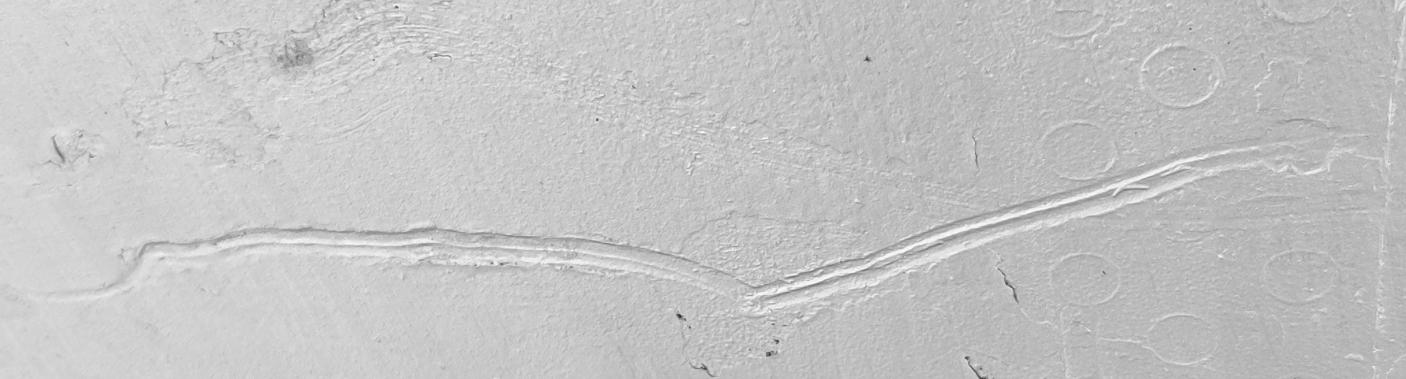scratch: (0, 1, 1406, 379)
